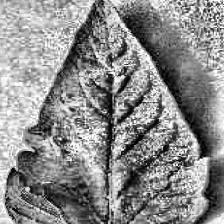spider mites: (4, 0, 207, 224)
